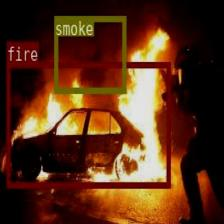fire: (6, 61, 169, 187)
smoke: (53, 15, 125, 92)
